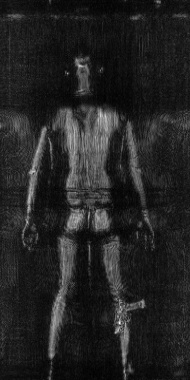gun: (111, 294, 144, 335)
